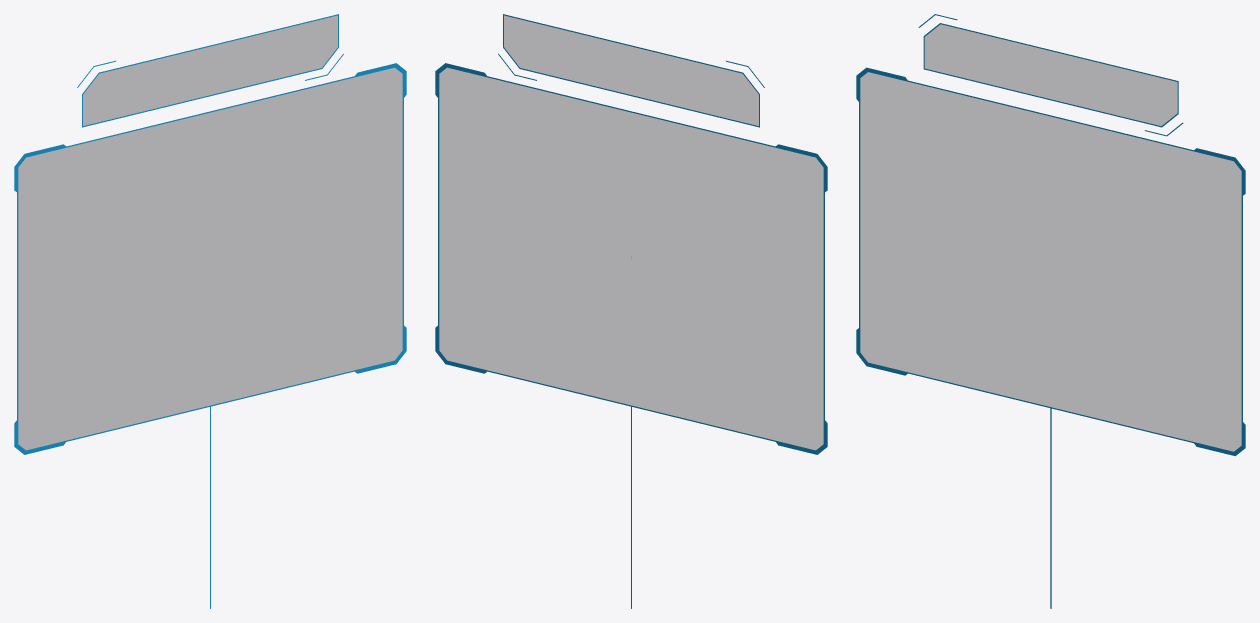
The model's file is spaceui3.FBX.
3 renders of one model, left to right at view 1: azimuth 30°, elevation 25°; view 2: azimuth 150°, elevation 25°; view 3: azimuth 330°, elevation 25°, orthographic.
Visible parts, largest first — view 1: spaceui_01_3, spaceui_01_2, spaceui_01_1_1; view 2: spaceui_01_3, spaceui_01_2, spaceui_01_1_1; view 3: spaceui_01_3, spaceui_01_2, spaceui_01_1_1.
Boxes of the visible parts, left/top/right/bottom form: spaceui_01_3: left=18, top=68, right=402, bottom=449; spaceui_01_2: left=83, top=16, right=337, bottom=125; spaceui_01_1_1: left=14, top=14, right=406, bottom=454; spaceui_01_3: left=439, top=68, right=823, bottom=449; spaceui_01_2: left=504, top=16, right=758, bottom=125; spaceui_01_1_1: left=435, top=14, right=827, bottom=454; spaceui_01_3: left=860, top=72, right=1241, bottom=451; spaceui_01_2: left=925, top=24, right=1177, bottom=125; spaceui_01_1_1: left=856, top=14, right=1245, bottom=456.
Size of the model in its own units: 105 by 146 by 4.86e-05.
